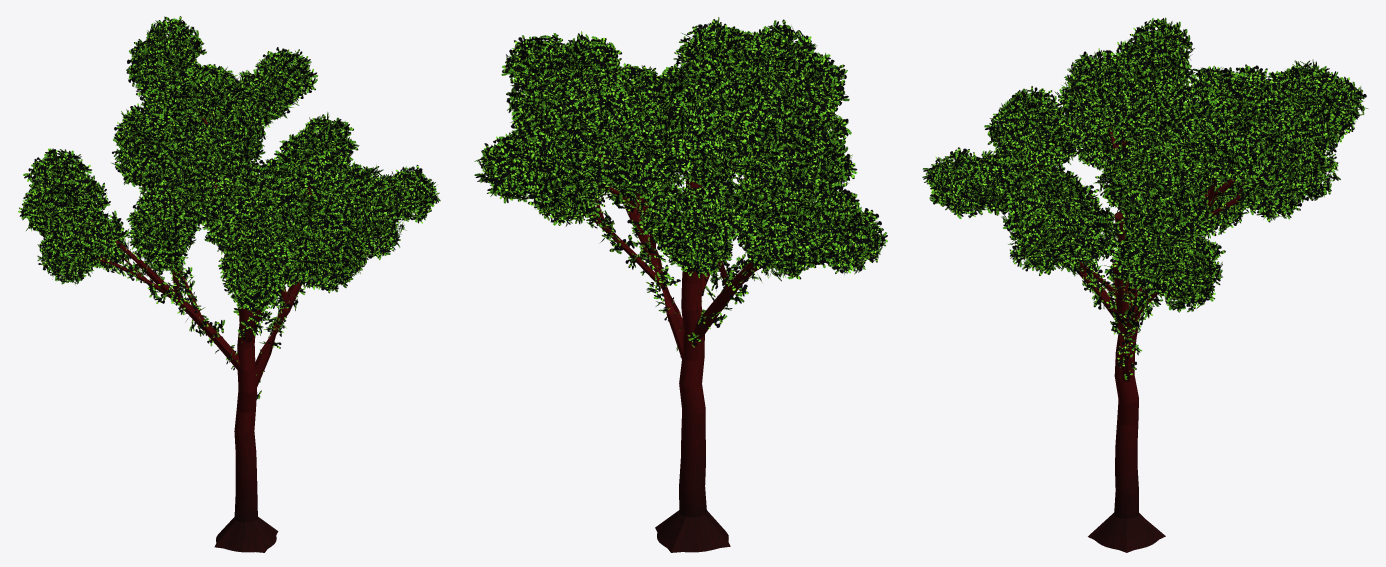
Rendered from emergent_fig_v02.glb.
3 renders of one model, left to right at view 1: azimuth 30°, elevation 25°; view 2: azimuth 150°, elevation 25°; view 3: azimuth 270°, elevation 25°, orthographic. The views are drawn at different scales.
Visible parts, largest first — view 1: emergent_fig_v02; view 2: emergent_fig_v02; view 3: emergent_fig_v02.
Part boxes in pixels (<box>): emergent_fig_v02: <box>18,16,440,552</box>; emergent_fig_v02: <box>474,17,887,552</box>; emergent_fig_v02: <box>922,17,1368,552</box>.
Bounding box in the file's own units: 35.39 × 44.24 × 38.04.
Materials: 2 (2 with a texture image).
